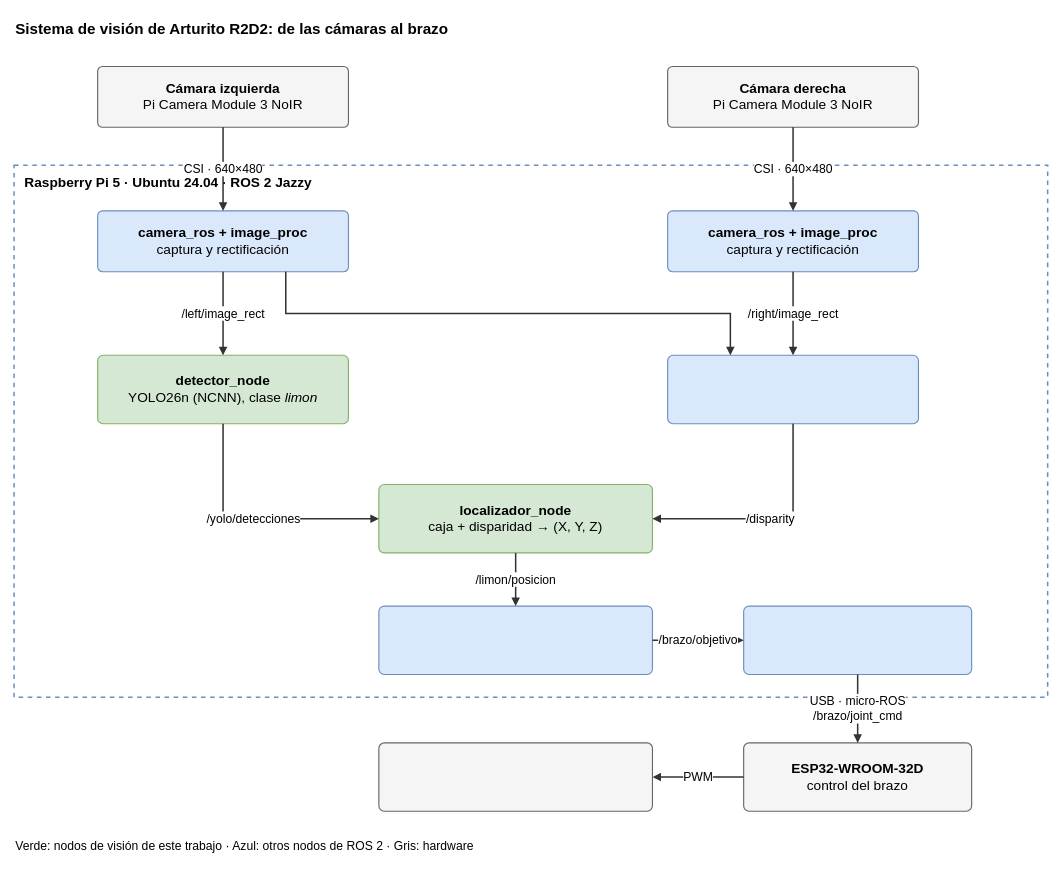
This 1061x869 diagram has some shape labels left out. Here are the shapes that lost their labels. From the top down, the centre of each, then its label:
At point 793,389: "stereo_image_proc disparidad SGBM".
At point 515,640: "mision (FSM) + tf2 cámara → base del brazo".
At point 857,640: "brazo_ik cinemática inversa".
At point 515,777: "J1-J3 (IBT-2) + pinza (2 servos)".
